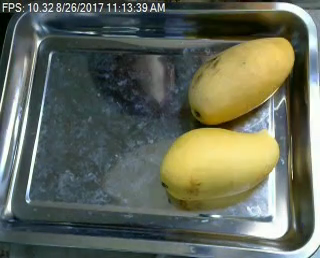Mango: (158, 123, 283, 207), (185, 36, 296, 124)
